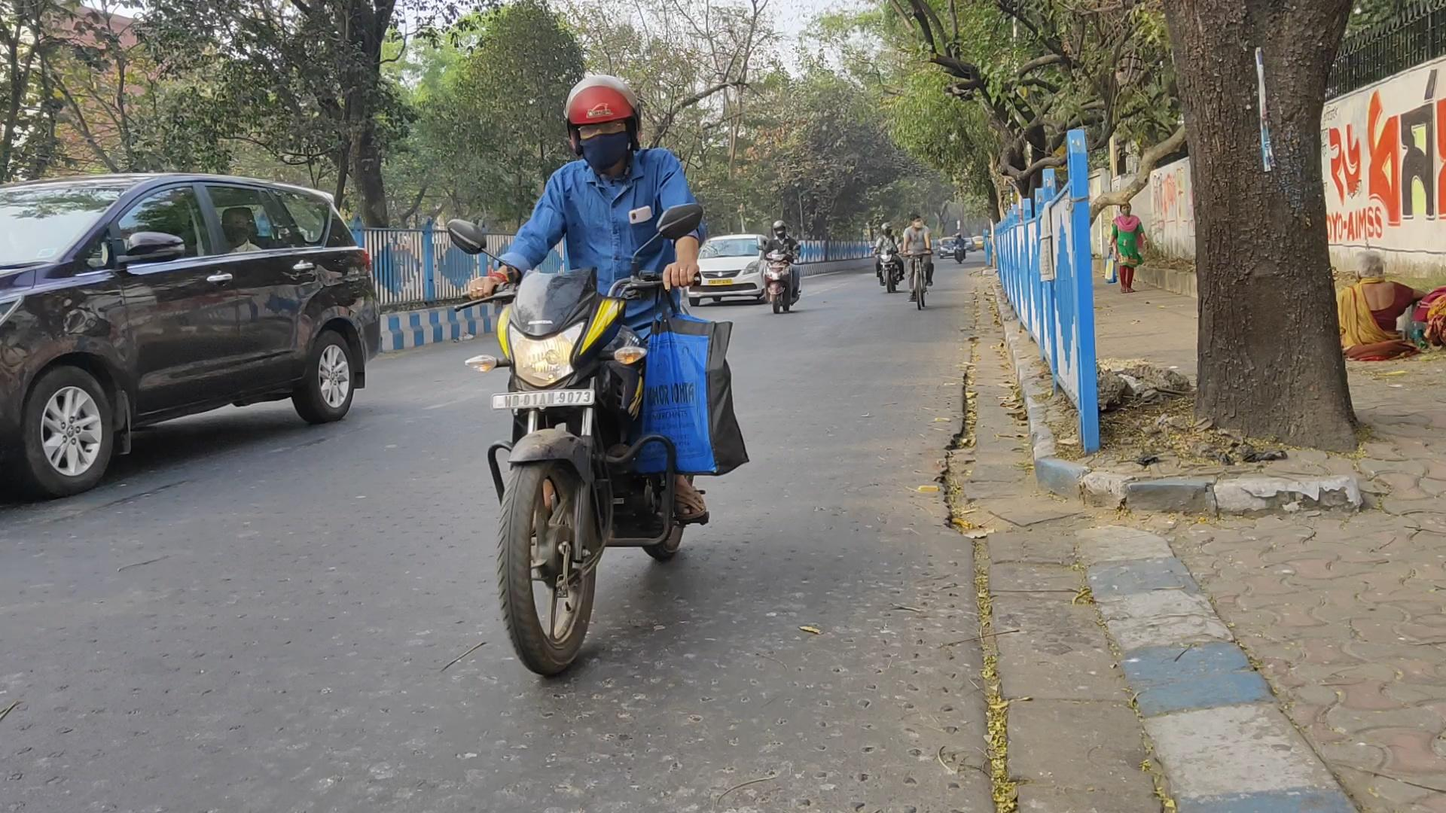bike: (448, 75, 718, 677), (758, 221, 801, 315), (902, 211, 935, 310), (874, 222, 903, 291), (952, 231, 967, 264)
car: (2, 172, 386, 498), (688, 235, 775, 306)
